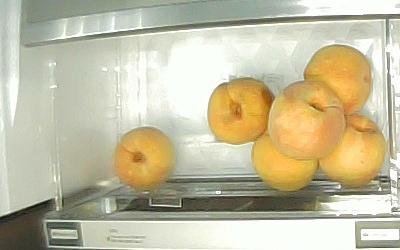peach: (267, 80, 346, 160), (303, 44, 372, 114), (320, 115, 386, 186), (207, 77, 274, 145), (250, 130, 317, 190), (113, 126, 174, 190)
